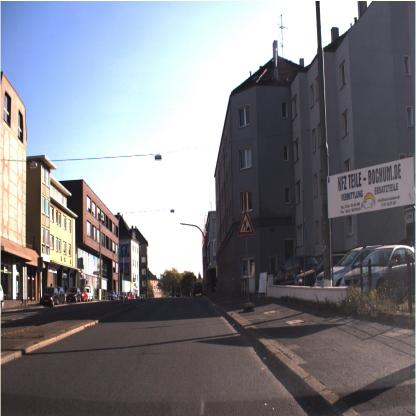CONSTRUCTION: (237, 208, 255, 236)
go straight: (119, 243, 128, 257)
